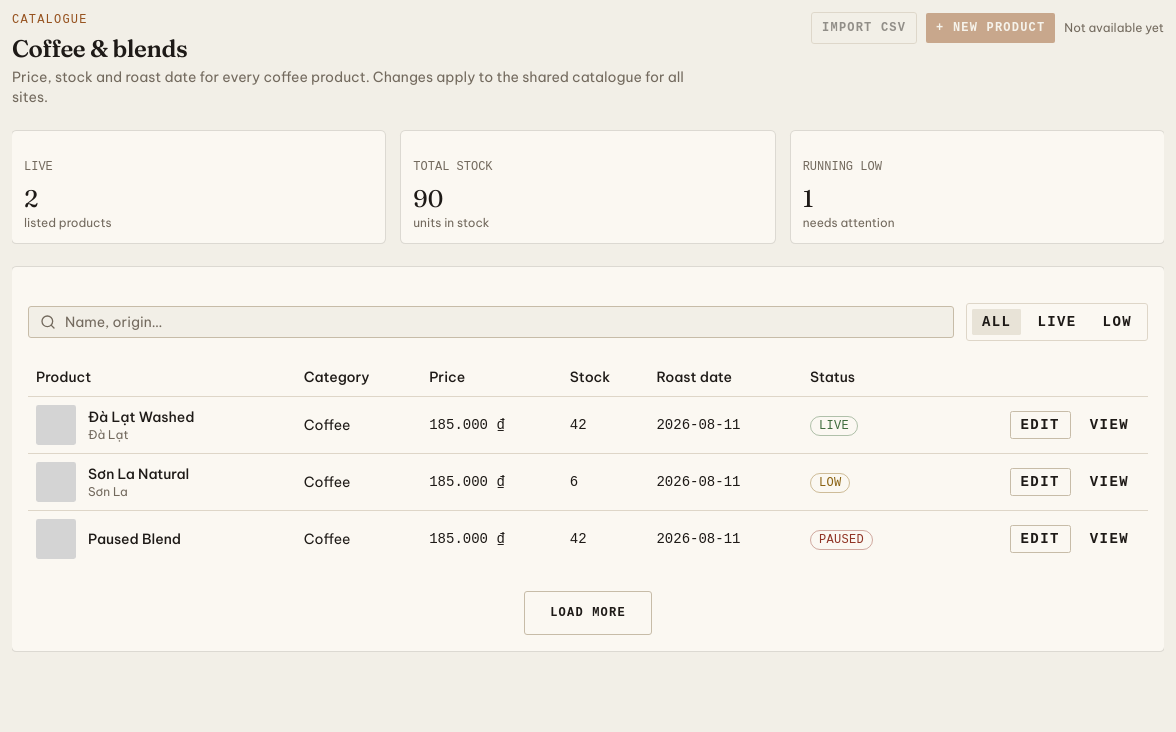
Test: ProductsBrowser › appends the next page and hides Load more on the last page
Click the button "Load more" at (588, 613), box [524, 591, 652, 635]
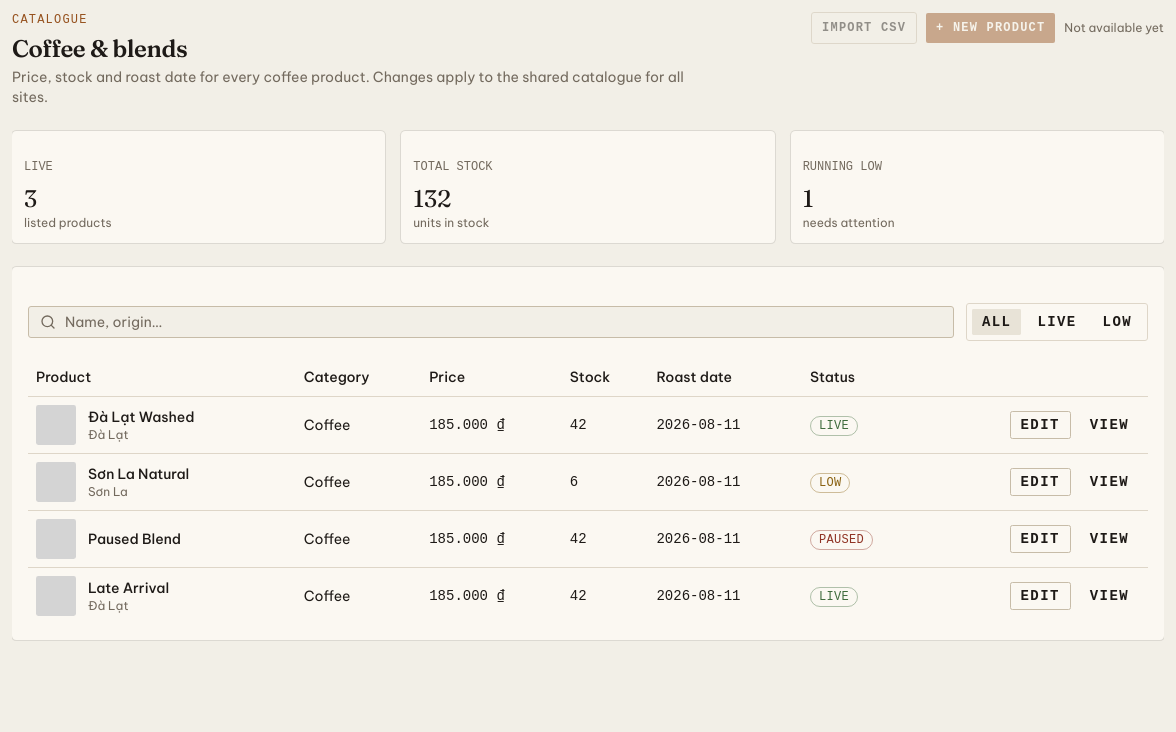
expect the text "Sơn La Natural" is shown: met, box [88, 464, 189, 484]
expect the text "Late Arrival" is shown: met, box [88, 578, 169, 598]
expect the button "Load more" is gone: met
